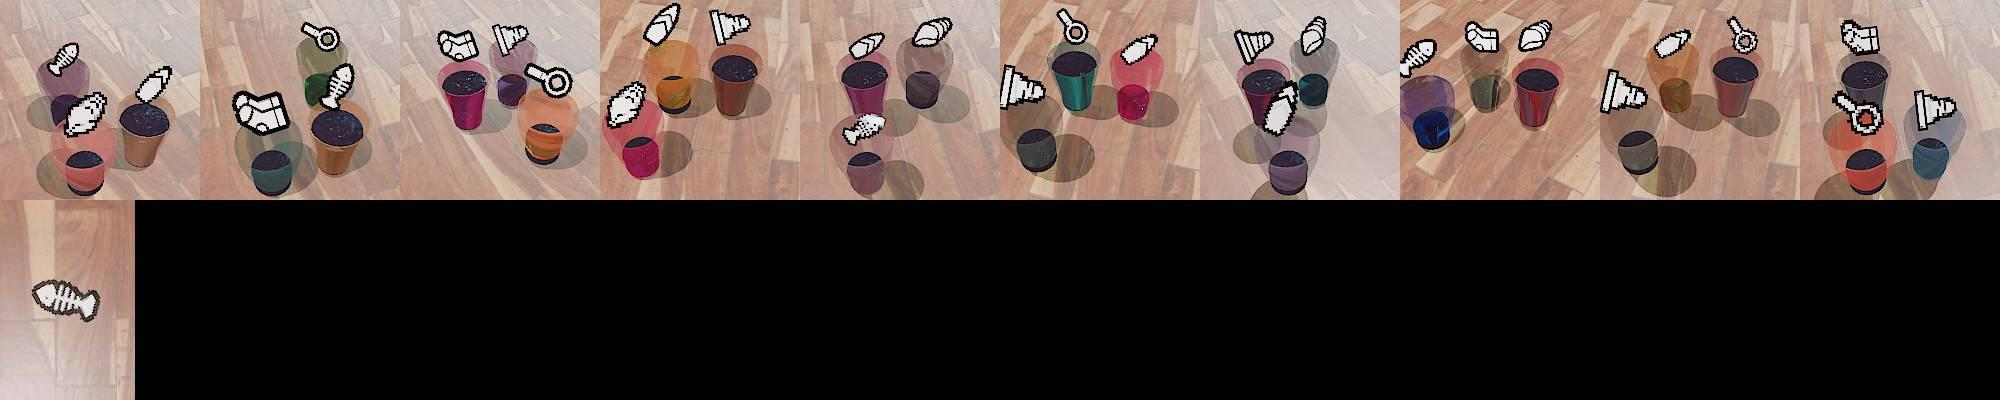icon: (31, 279, 102, 322), (232, 88, 291, 135), (1261, 79, 1301, 139), (1599, 68, 1649, 115), (1830, 90, 1883, 134), (62, 90, 108, 139), (1000, 62, 1046, 108), (606, 79, 648, 129), (522, 65, 575, 102), (1911, 88, 1957, 130), (319, 62, 356, 110), (643, 4, 681, 47), (134, 64, 175, 103), (708, 9, 751, 46), (842, 112, 886, 146), (1233, 28, 1274, 65), (1841, 18, 1880, 55), (437, 28, 480, 62), (1402, 38, 1436, 79), (1055, 6, 1089, 47), (1726, 15, 1760, 56), (911, 17, 953, 50), (1119, 32, 1158, 66), (491, 23, 529, 57), (301, 22, 341, 55), (1300, 14, 1329, 56), (1518, 19, 1554, 54), (1653, 28, 1691, 60), (1466, 20, 1501, 54), (47, 42, 80, 76), (848, 31, 885, 61)
